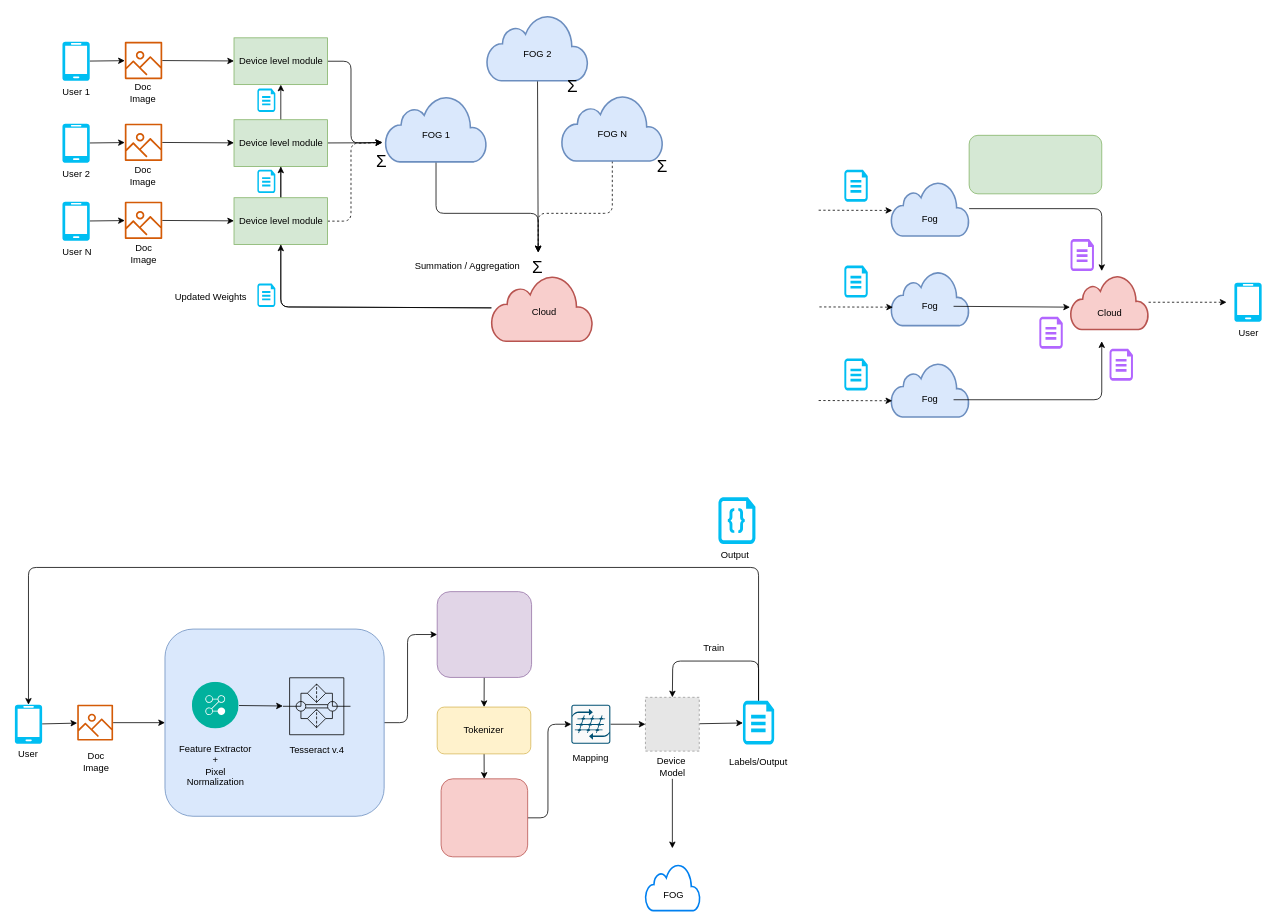
Some shapes in this 1277 by 924 pixel diagram are drawn without their labels. Grey dashed boxes stand in for pictures. Here are the shapes that lost their labels. From the top down, the box of each, then its label:
(968, 135, 1102, 194): Cloud/Fog Level Aggregation of weights and augmentationi of vectors is performed
(436, 591, 532, 677): Words Bounding Boxes Ner-Tags
(440, 778, 528, 857): input_ids attention_mask labels
